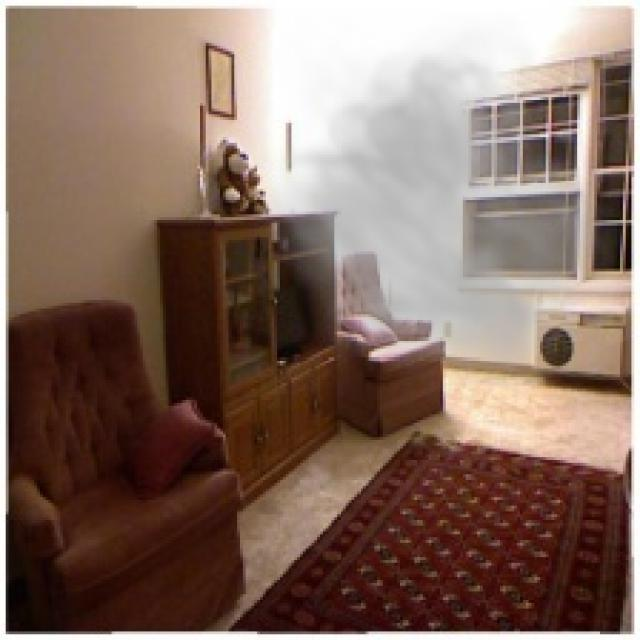Smoke: (252, 11, 628, 386)
